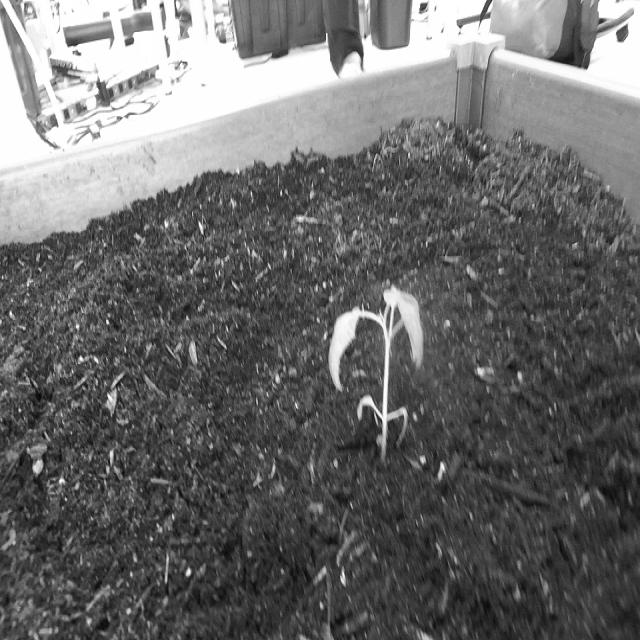Healthy: (324, 282, 426, 468)
